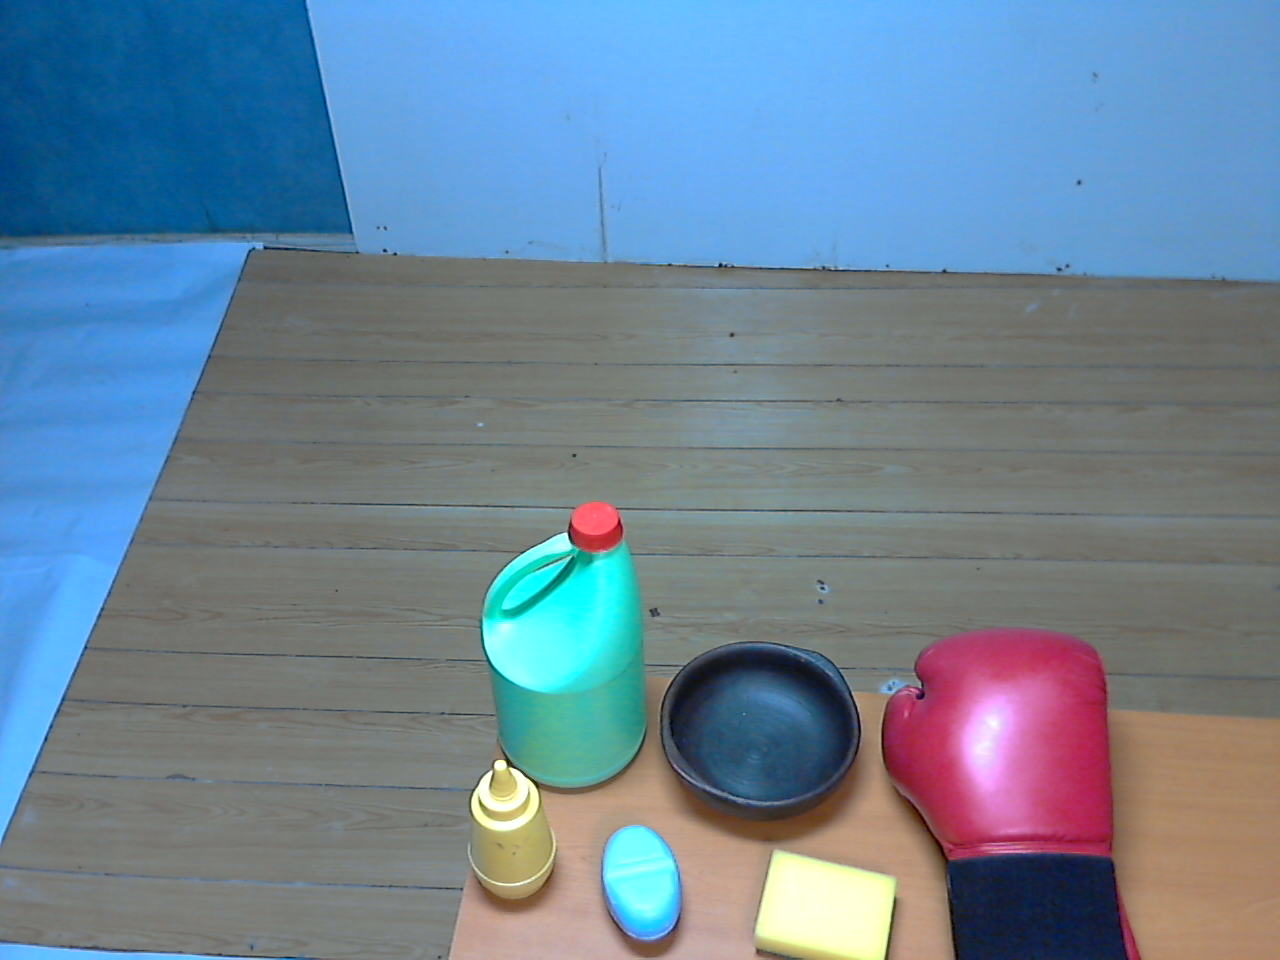cloroplano: (458, 497, 660, 807)
esponja: (733, 834, 916, 960)
greda: (648, 626, 867, 829)
guante: (867, 609, 1155, 960)
jabon: (588, 813, 696, 956)
mostaza: (451, 750, 566, 906)
